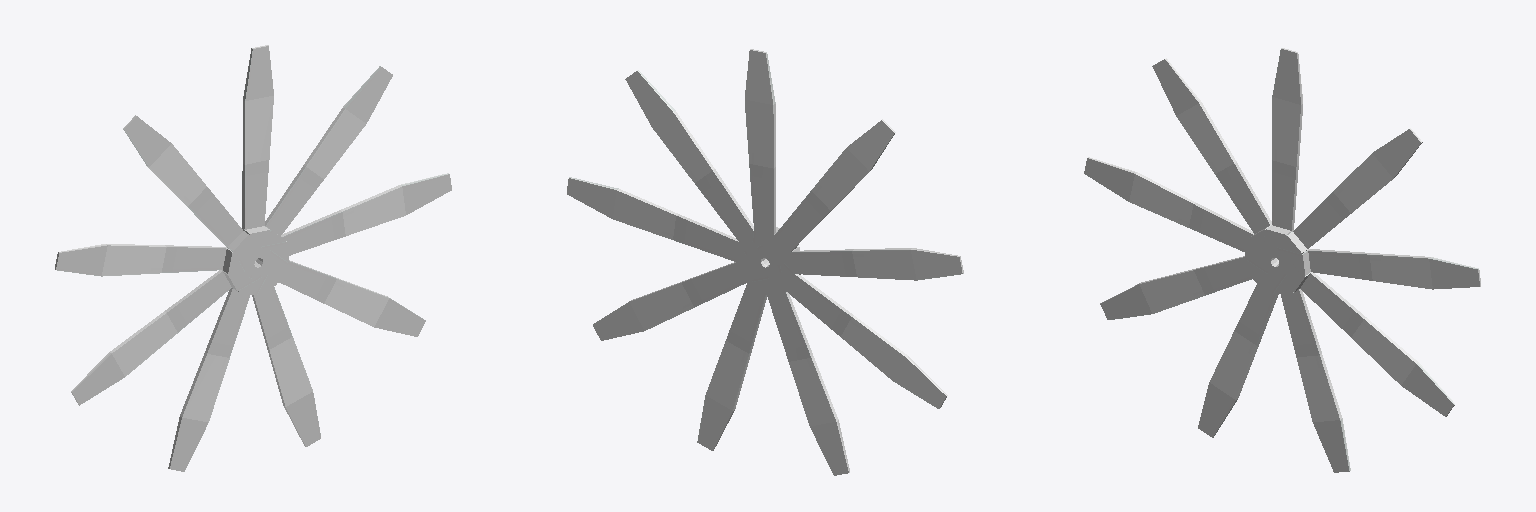
3 views of the same model, side by side, from view 1: azimuth 30°, elevation 25°; view 2: azimuth 150°, elevation 25°; view 3: azimuth 330°, elevation 25° (orthographic).
Parts seen in each view (by area): view 1: Propeller; view 2: Propeller; view 3: Propeller.
Boxes of the visible parts, box(x1,y1,x2,y2) form: Propeller: box(55, 45, 451, 471); Propeller: box(567, 49, 963, 475); Propeller: box(1084, 48, 1480, 472).
Size of the model in its own units: 7.96 by 7.9 by 0.2751.
Materials: 1 (1 with a texture image).